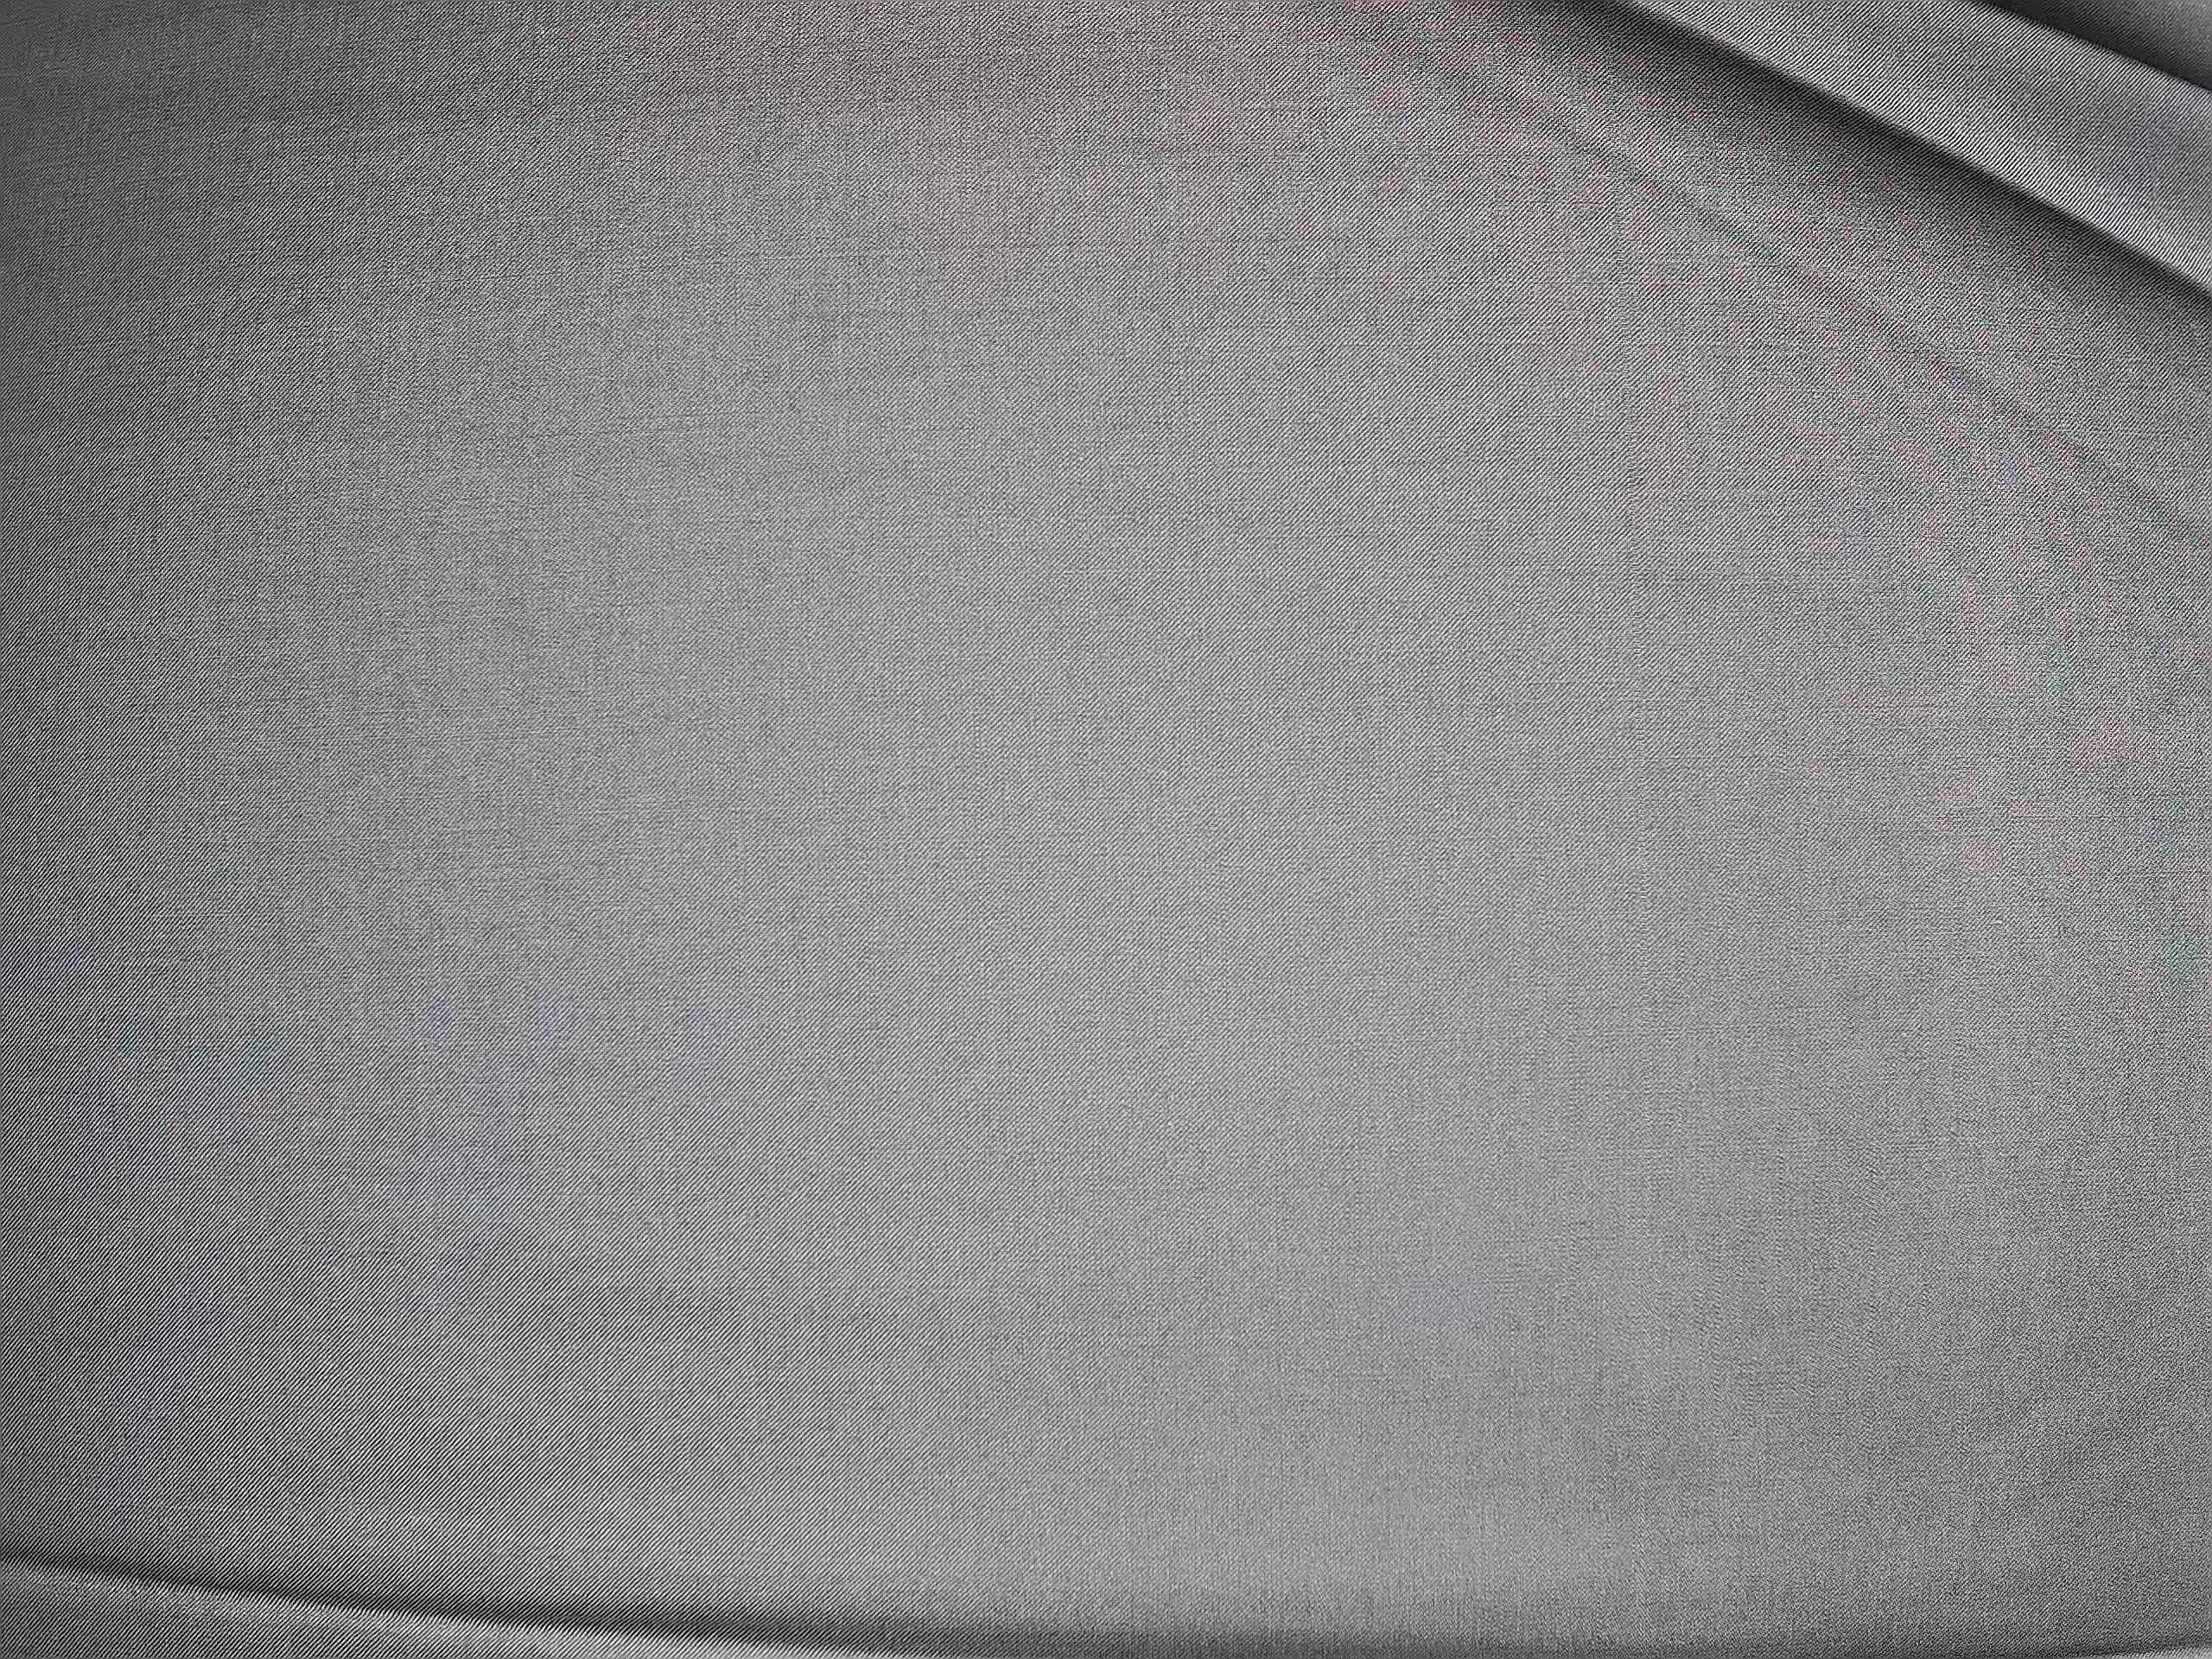lacking-warp: (1597, 10, 1663, 1204)
